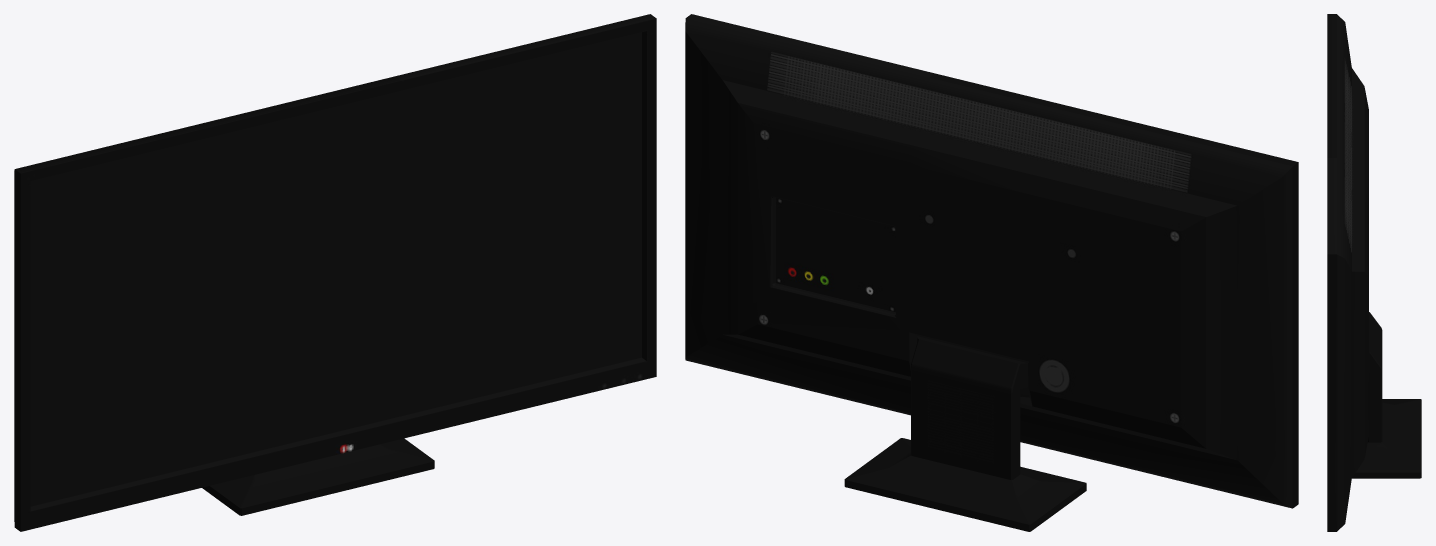
The picture shows the model from 3 angles, left to right: view 1: azimuth 30°, elevation 25°; view 2: azimuth 150°, elevation 25°; view 3: azimuth 270°, elevation 25°; orthographic projection. The views are drawn at different scales.
Parts seen in each view (by area): view 1: screen, led_tv; view 2: led_tv; view 3: led_tv.
Part boxes in pixels (<box>): screen: <box>30,32,641,506</box>; led_tv: <box>14,14,656,531</box>; led_tv: <box>685,14,1298,531</box>; led_tv: <box>1327,14,1421,531</box>.
Size of the model in its own units: 13 by 7.75 by 2.15.
1 material, 1 textured.
